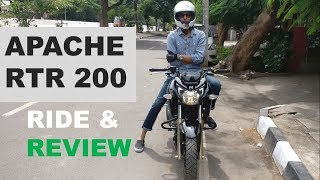helmet: (172, 1, 195, 28)
